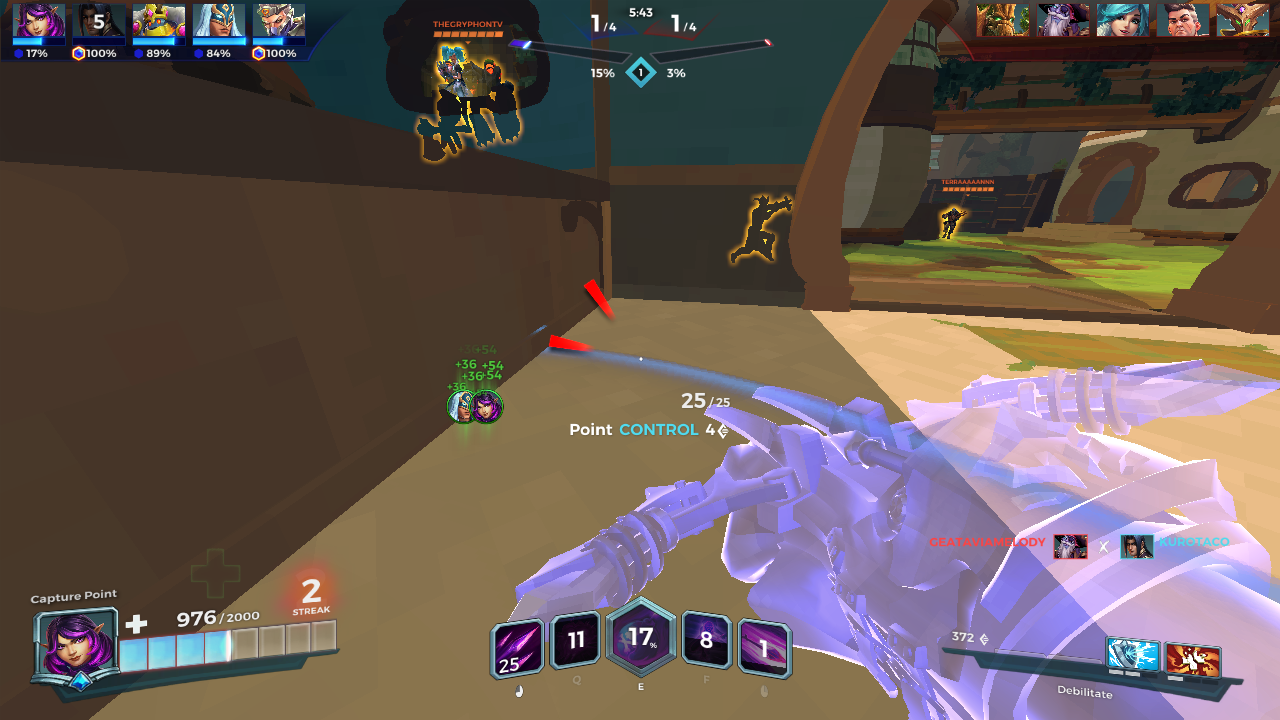model: (416, 62, 525, 151), (731, 192, 782, 260), (439, 46, 468, 142), (940, 206, 962, 241)
